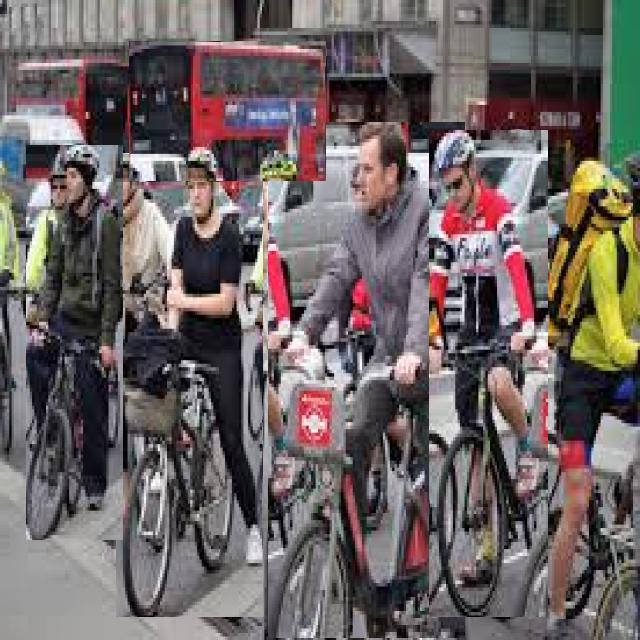bicycle: (268, 122, 465, 638), (116, 153, 262, 617), (429, 130, 548, 617), (530, 155, 640, 638), (26, 145, 122, 540)
bus: (129, 42, 326, 181)
